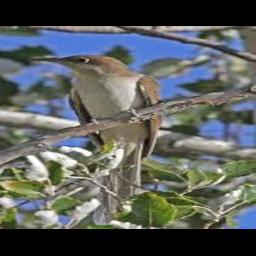Cuckoo: (31, 55, 163, 219)
